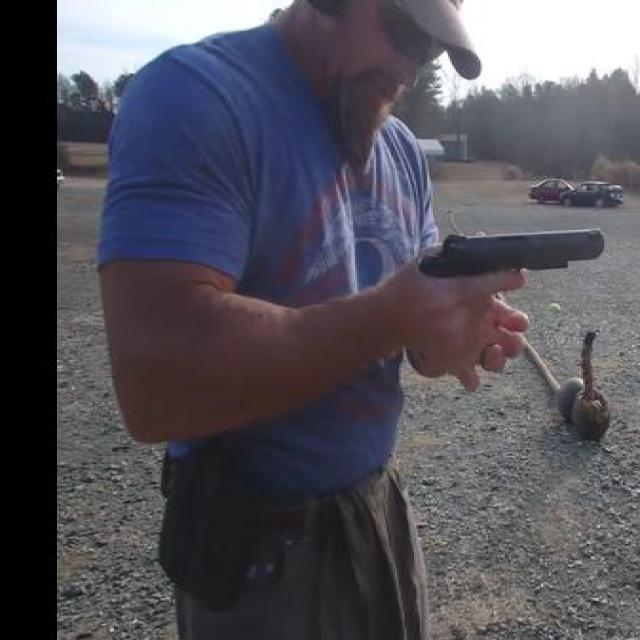gun: (407, 228, 600, 338)
